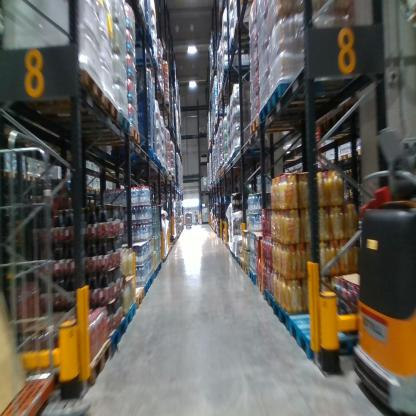pallet: (287, 304, 366, 375), (268, 64, 364, 120), (15, 54, 105, 113), (52, 338, 112, 401), (42, 90, 120, 122), (260, 96, 328, 127), (45, 110, 130, 134), (61, 120, 140, 144), (247, 112, 328, 135), (100, 315, 126, 361), (273, 297, 295, 339), (231, 21, 257, 46), (227, 36, 258, 56), (119, 301, 137, 330), (260, 285, 277, 314), (130, 288, 144, 312), (24, 169, 42, 187), (12, 167, 30, 182), (256, 275, 264, 299), (144, 271, 154, 289), (2, 164, 12, 181), (141, 279, 149, 299), (238, 255, 247, 271), (249, 271, 257, 285), (86, 181, 94, 193), (245, 261, 250, 280), (91, 186, 97, 195), (96, 185, 102, 194)
pallet_truck: (351, 128, 414, 415)
